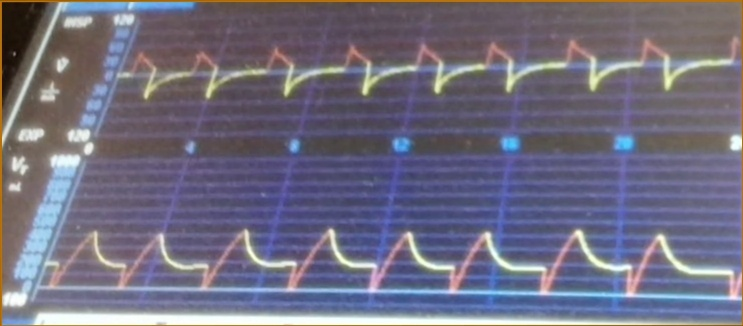Flow: (131, 24, 741, 129)
Leakage Volume: (72, 188, 742, 311)
